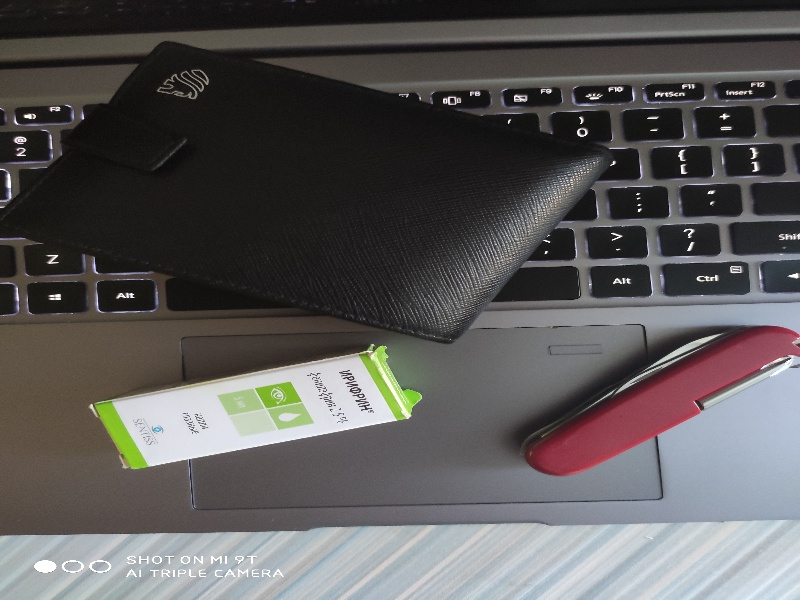ifrin: (105, 345, 415, 478)
knife: (535, 325, 798, 478)
wallet: (25, 38, 611, 345)
